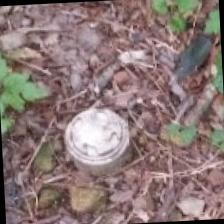M14: (69, 106, 133, 170)
